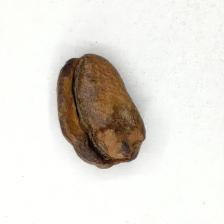NG: (57, 57, 131, 167)
